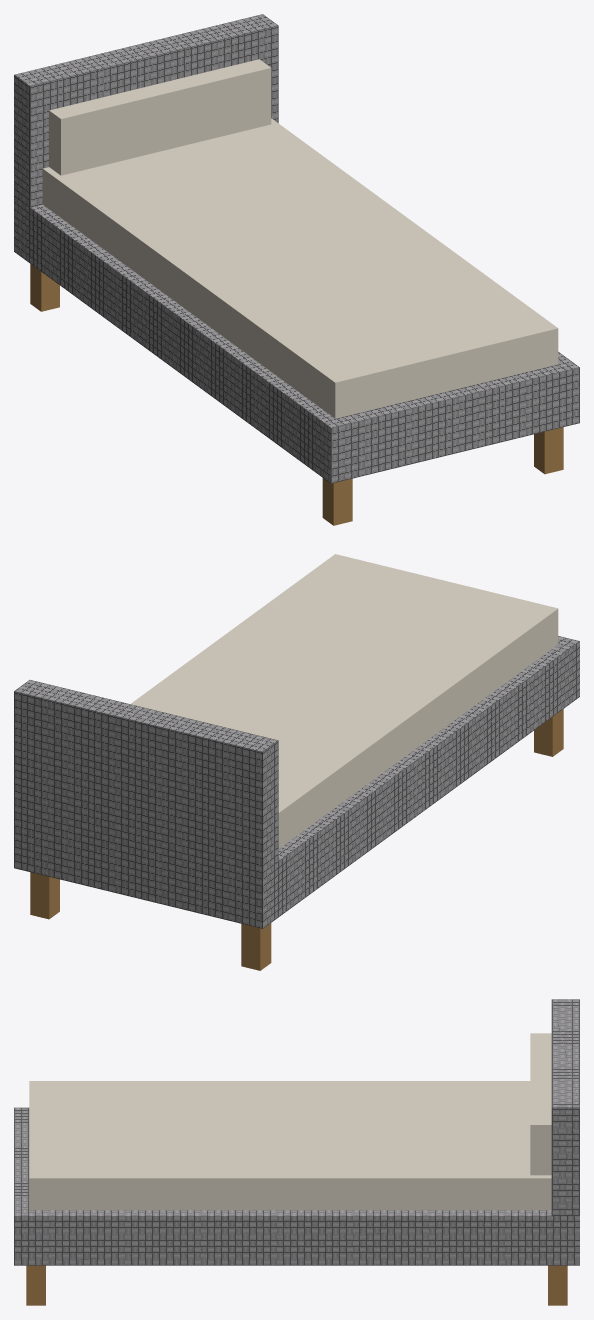
The model's file is backyard_chaise.glb.
The picture shows the model from 3 angles, top to bottom: view 1: azimuth 30°, elevation 25°; view 2: azimuth 150°, elevation 25°; view 3: azimuth 270°, elevation 25°; orthographic projection. The views are drawn at different scales.
Visible parts, largest first — view 1: root; view 2: root; view 3: root.
Boxes of the visible parts, x1,y1,x2,y2 form: root: (14,14,579,525); root: (14,554,579,970); root: (14,999,579,1305).
Size of the model in its own units: 0.8839 by 0.7681 by 1.95.
3 materials, 1 textured.
